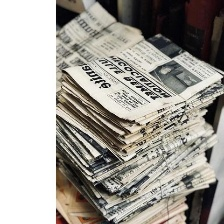news_paper: (61, 32, 224, 125), (39, 1, 147, 88)
